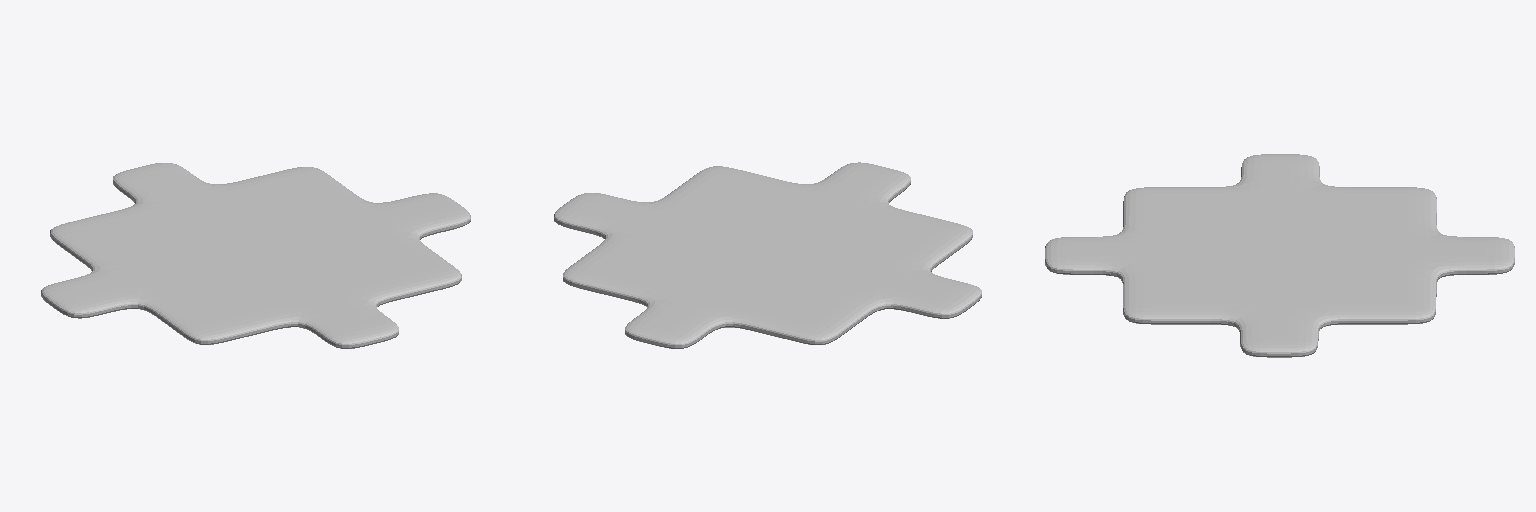
Rendered from GoldenPuzzle-03-MMMM.obj.
3 renders of one model, left to right at view 1: azimuth 30°, elevation 25°; view 2: azimuth 150°, elevation 25°; view 3: azimuth 270°, elevation 25°, orthographic.
Parts seen in each view (by area): view 1: Puzzle.003; view 2: Puzzle.003; view 3: Puzzle.003.
Part boxes in pixels (left/top/right/bottom): Puzzle.003: left=41, top=163, right=470, bottom=348; Puzzle.003: left=554, top=162, right=981, bottom=348; Puzzle.003: left=1045, top=154, right=1514, bottom=357.
Size of the model in its own units: 0.375 by 0.0092 by 0.3762.